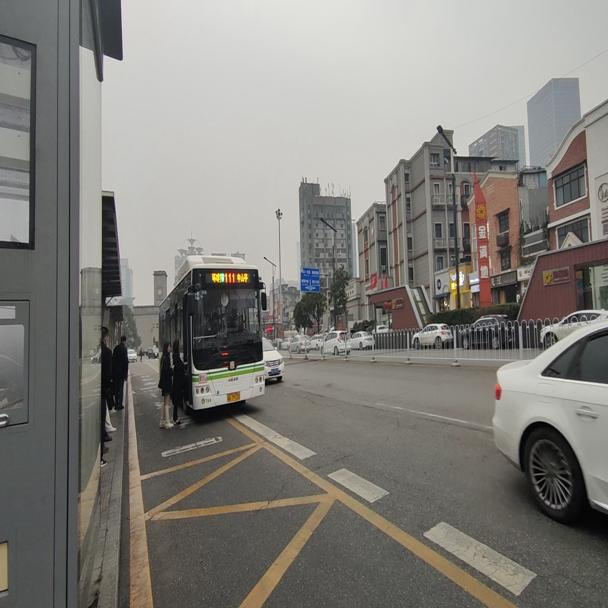bus: (158, 256, 268, 416)
screen: (223, 270, 235, 283)
